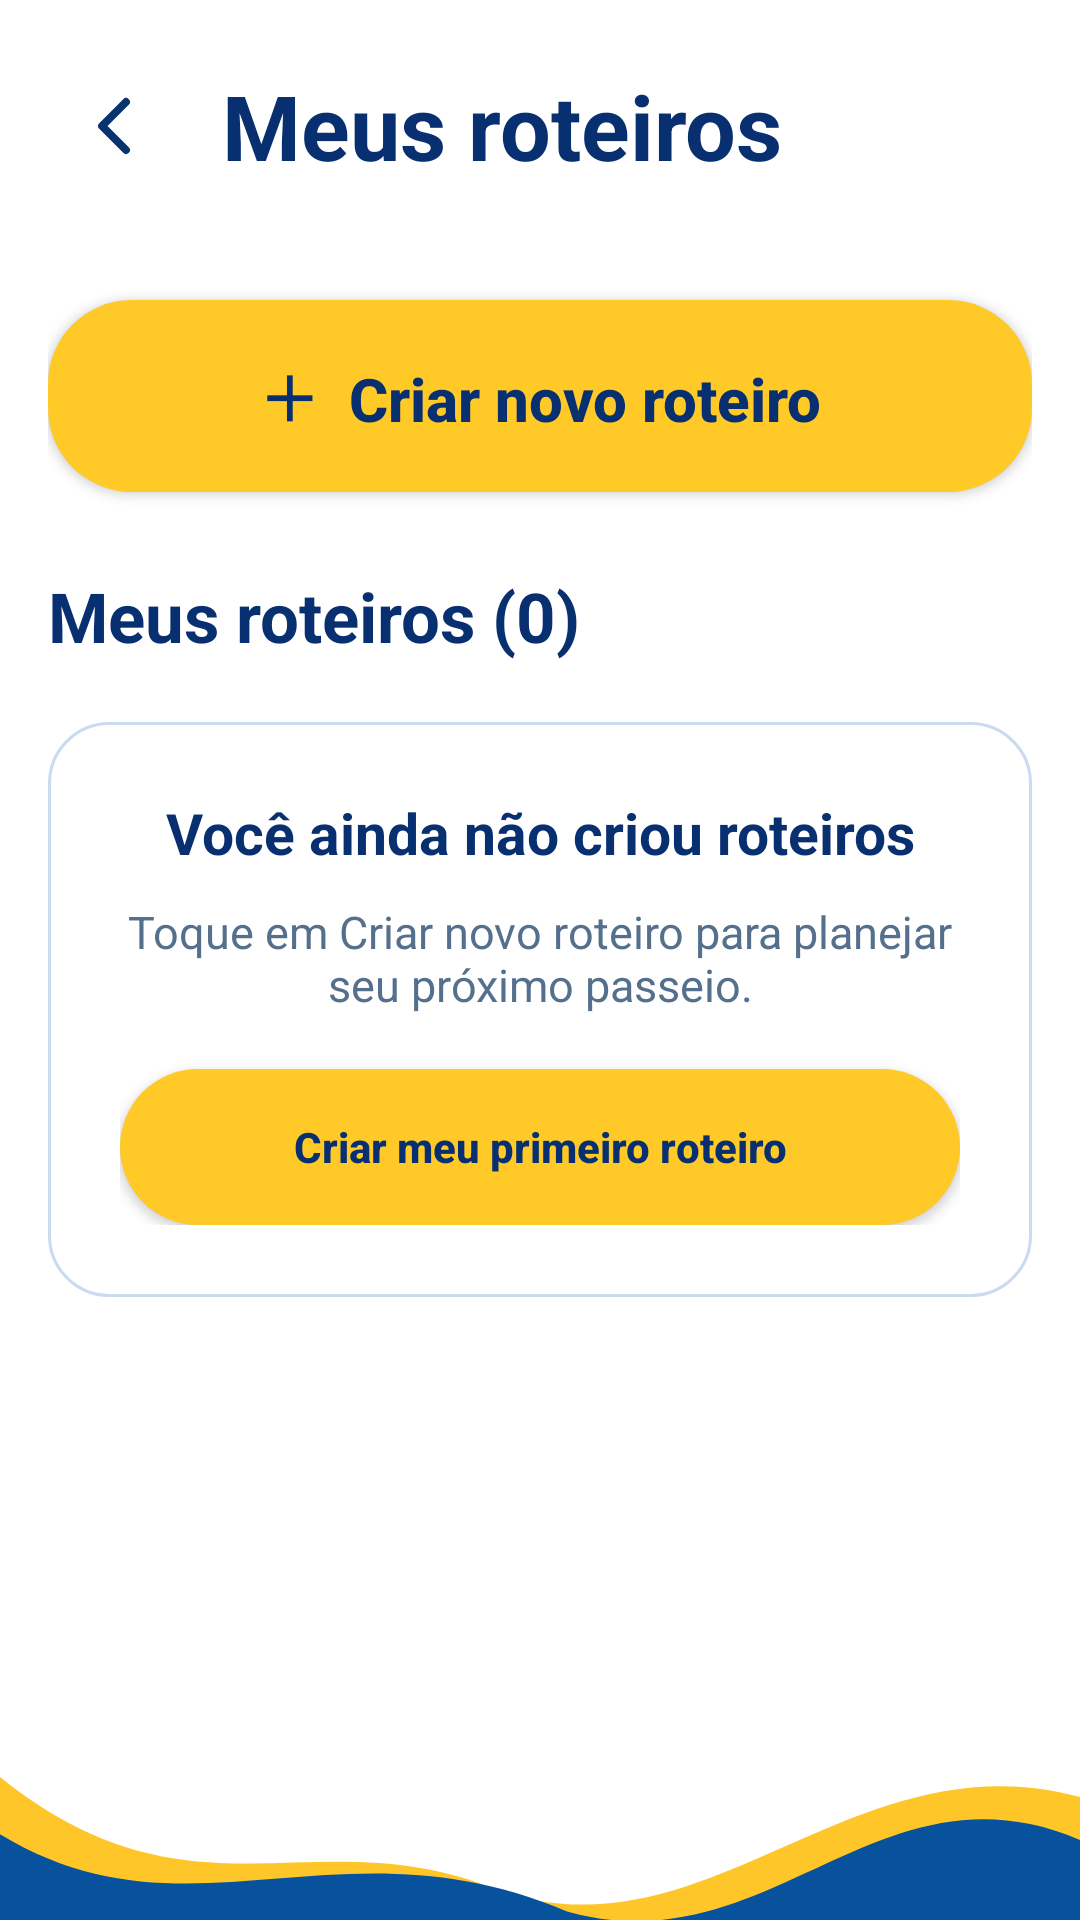

Where to tap for icons on this 1080×1920 app screen, as [x,y]:
Voltar: [114,125]
